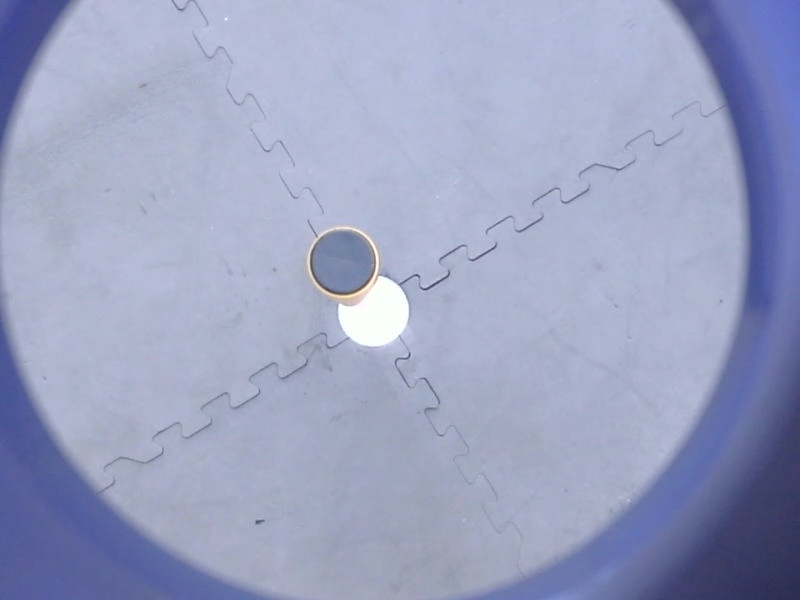tip: (304, 222, 384, 304)
